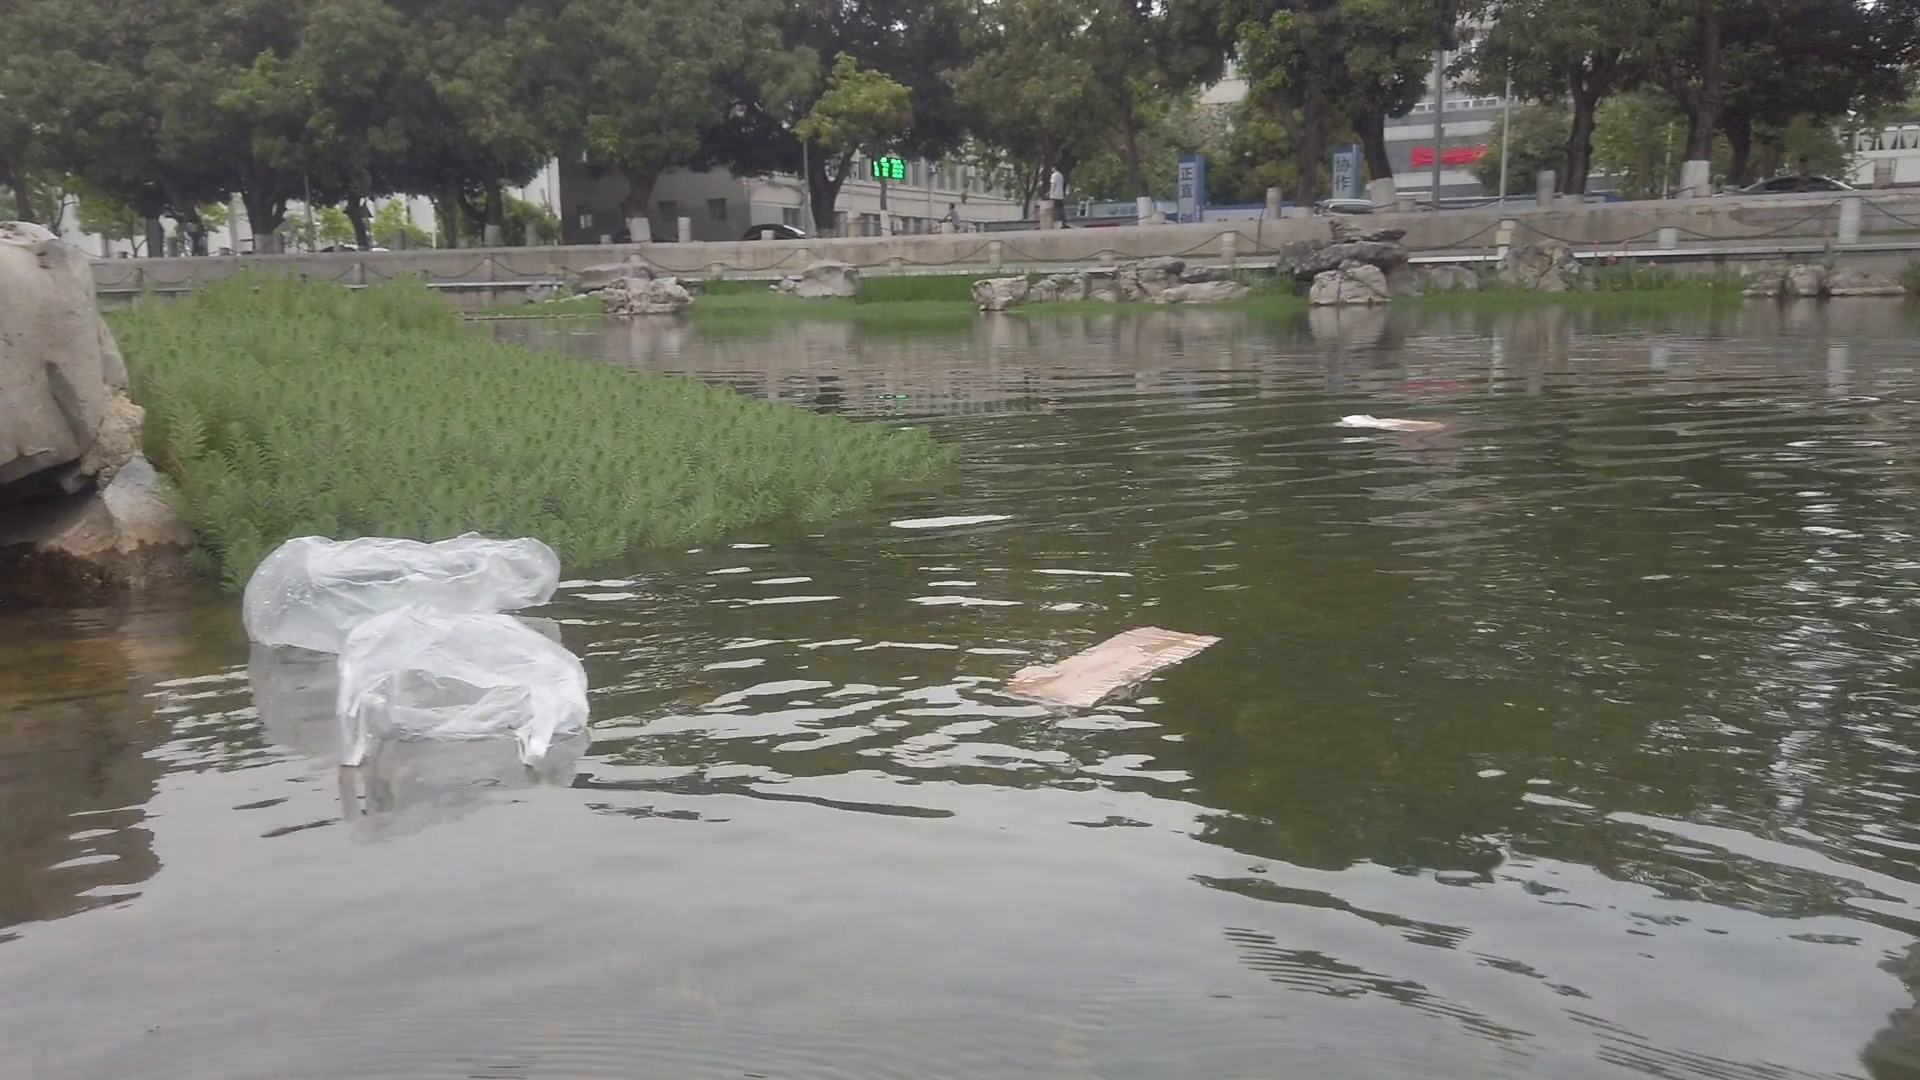paper: (1011, 609, 1220, 719), (1340, 401, 1444, 442)
plastic: (335, 612, 589, 760), (247, 538, 560, 638)
